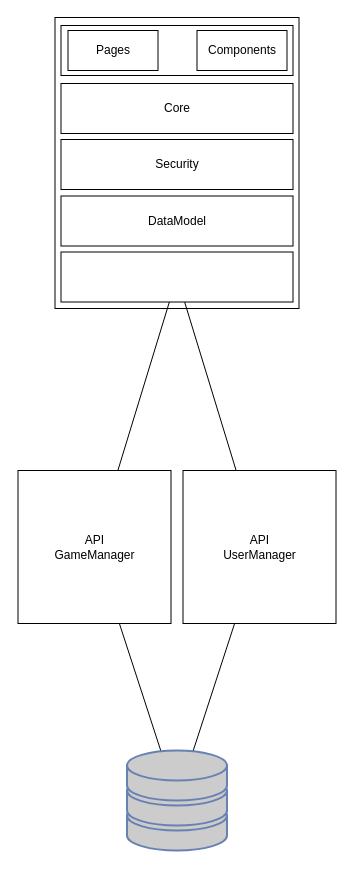
Some shapes in this 353 by 889 pixel diagram are drawn without their labels. Here are the shapes that lost their labels. From the top down, the box of each, then its label:
(60, 24, 293, 76): Front
(60, 251, 293, 302): DataAccess
(126, 749, 228, 851): BDD
